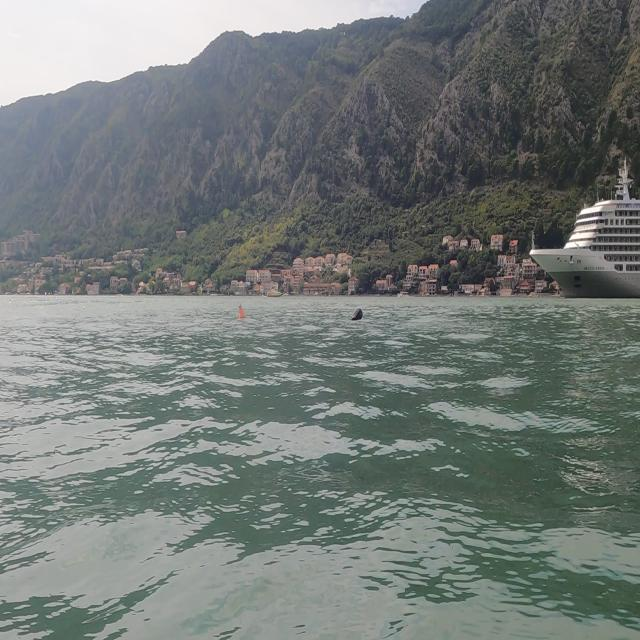boat: (528, 151, 639, 301)
buoy: (347, 302, 369, 330), (230, 298, 250, 328)
